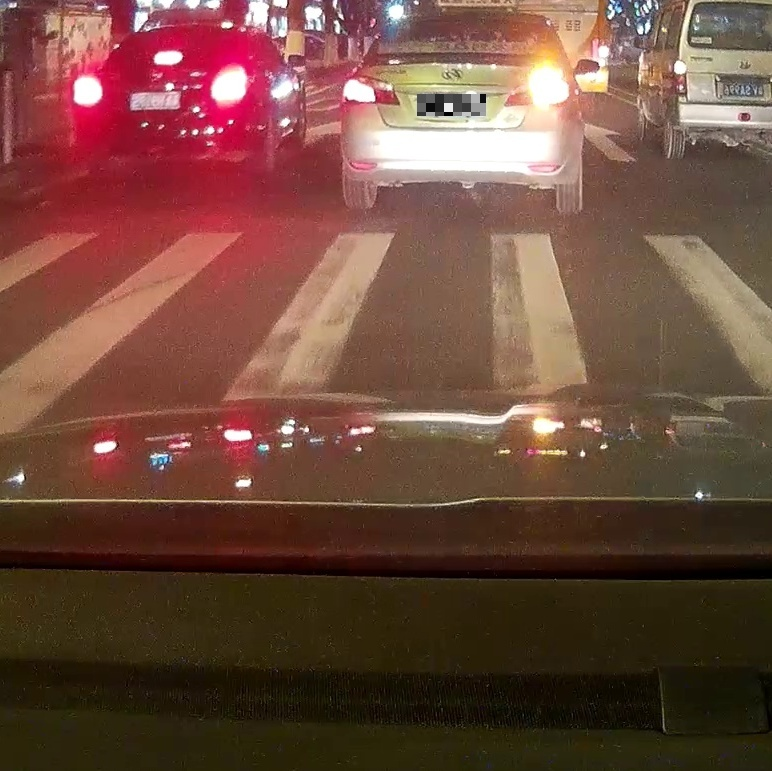L_light: (342, 75, 400, 105), (72, 76, 104, 108)
R_light: (503, 77, 571, 107), (210, 65, 248, 108)
T_light: (152, 50, 183, 66), (449, 19, 483, 27)
night-brake: (72, 21, 270, 184)
night-right: (340, 13, 572, 214)
plate_1: (417, 94, 486, 116)
